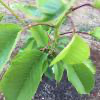Cherry leaf: (0, 48, 50, 99), (65, 59, 98, 96)
